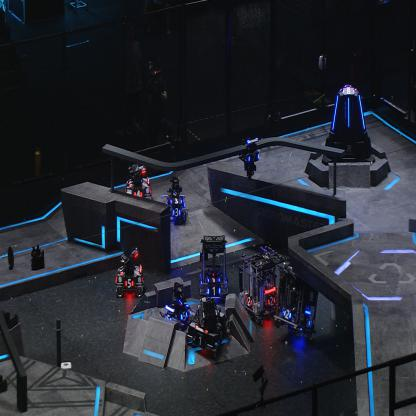car: (274, 257, 320, 338), (237, 244, 284, 323), (184, 294, 229, 358), (198, 233, 228, 301), (114, 246, 145, 298), (162, 281, 194, 330), (162, 176, 188, 224), (125, 162, 152, 204)
